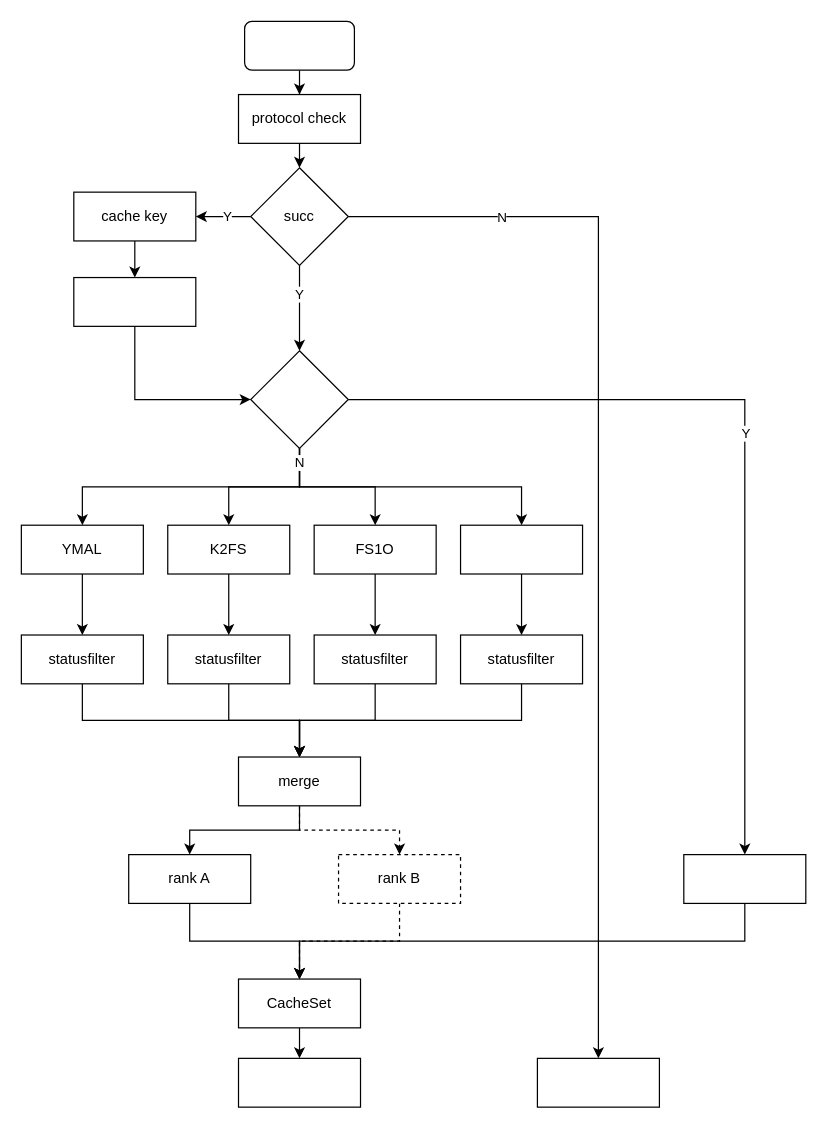
This 827x1129 diagram has some shape labels left out. Here are the shapes that lost their labels. From the top down, the centre of each, then its label:
At (x=298, y=45): "request".
At (x=134, y=301): "RedisGet".
At (x=298, y=399): "succ && exist".
At (x=521, y=549): "FS1B".
At (x=744, y=878): "CacheParse".
At (x=299, y=1082): "response".
At (x=597, y=1082): "defaultResponse".
